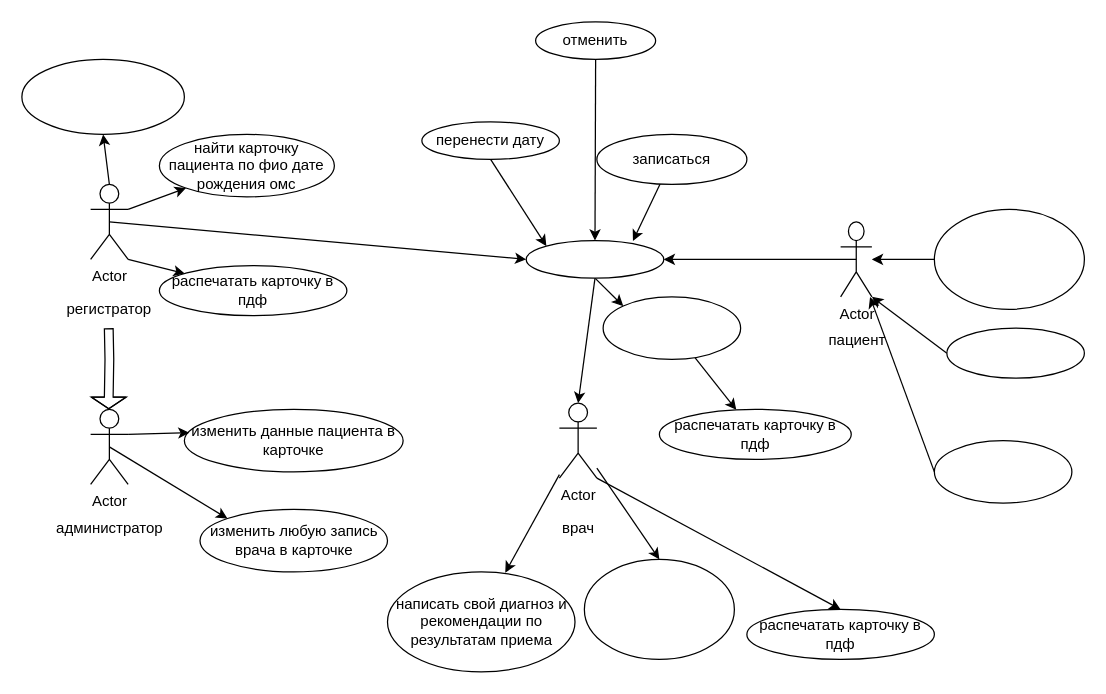
Image size: 1106x694. Some labels were removed from this diagram. Each missing label, with the centre of its shape:
завести новую карточку пациента по номеру ОМС: (x=102, y=96)
найти свою карточку: (x=1002, y=471)
прием: (x=594, y=258)
прочитать все записи в карточке: (x=1008, y=258)
прочитать все предыдущие записи в карточке: (x=658, y=608)
работа с картой: (x=671, y=327)
скачать карточку: (x=1015, y=352)
